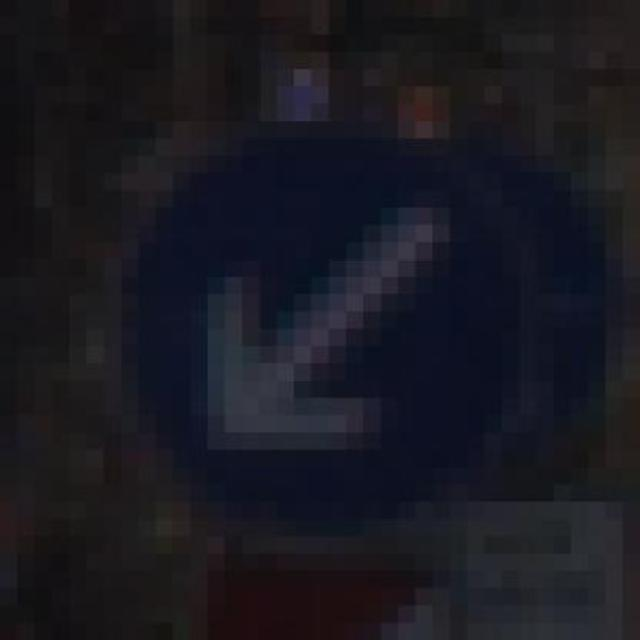Keep-Left: (103, 69, 571, 537)
